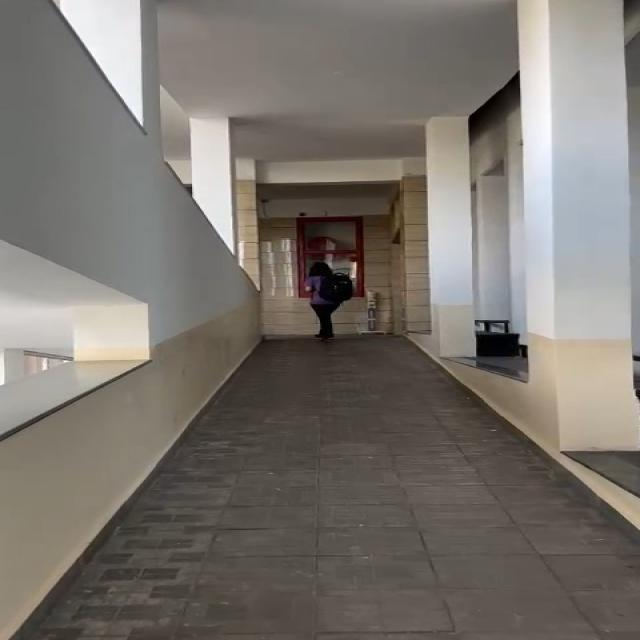floor: (206, 385, 560, 640)
moving_object: (294, 257, 347, 340)
wall: (376, 7, 640, 399), (27, 5, 279, 414)
